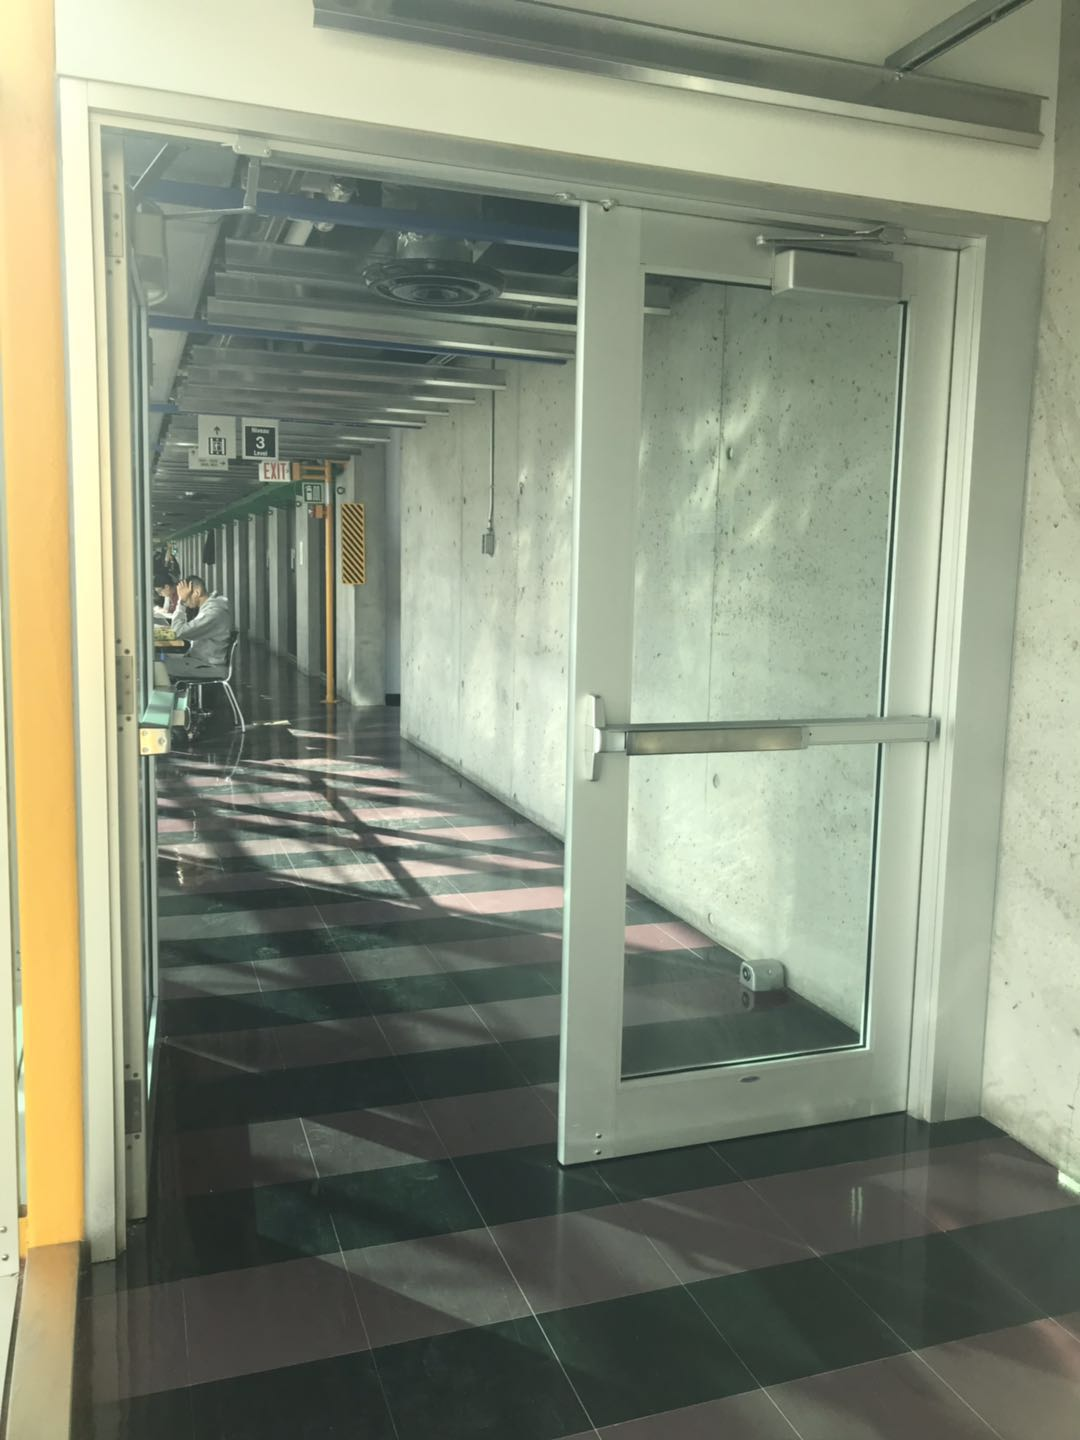door: (63, 73, 982, 1261)
person: (153, 577, 229, 691)
sign: (197, 415, 236, 457), (243, 418, 277, 460), (264, 462, 291, 480)
